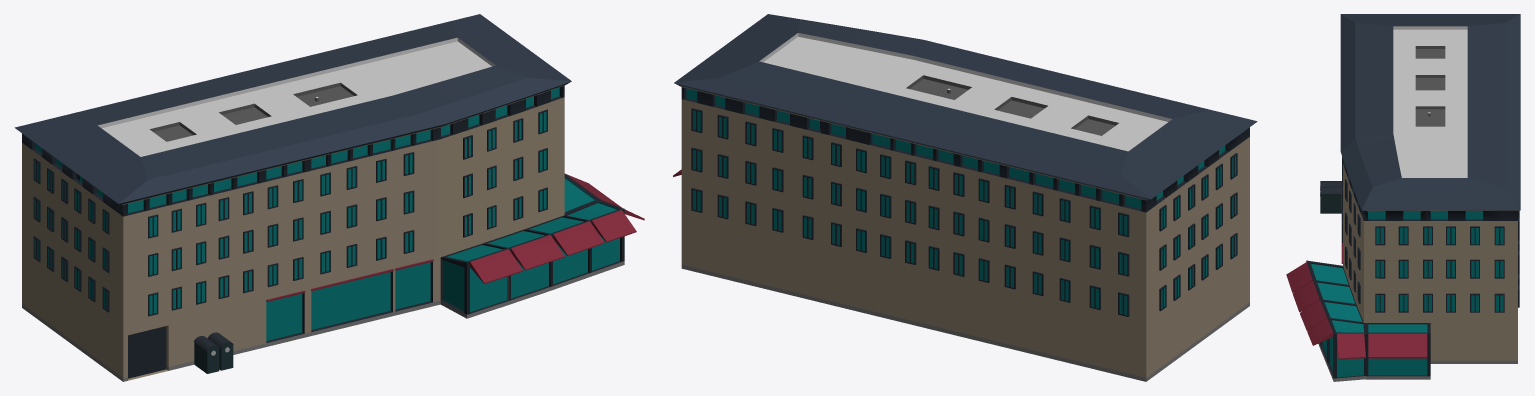
The model's file is 10 Munkbroleden.fbx.
The picture shows the model from 3 angles, left to right: view 1: azimuth 30°, elevation 25°; view 2: azimuth 150°, elevation 25°; view 3: azimuth 270°, elevation 25°; orthographic projection. The views are drawn at different scales.
Parts seen in each view (by area): view 1: group2_pCube5; view 2: group2_pCube5; view 3: group2_pCube5.
Boxes of the visible parts, box(x1,y1,x2,y2) form: group2_pCube5: box(14, 14, 644, 381); group2_pCube5: box(673, 14, 1257, 381); group2_pCube5: box(1286, 14, 1520, 381).
Size of the model in its own units: 145 by 50.88 by 64.95.
